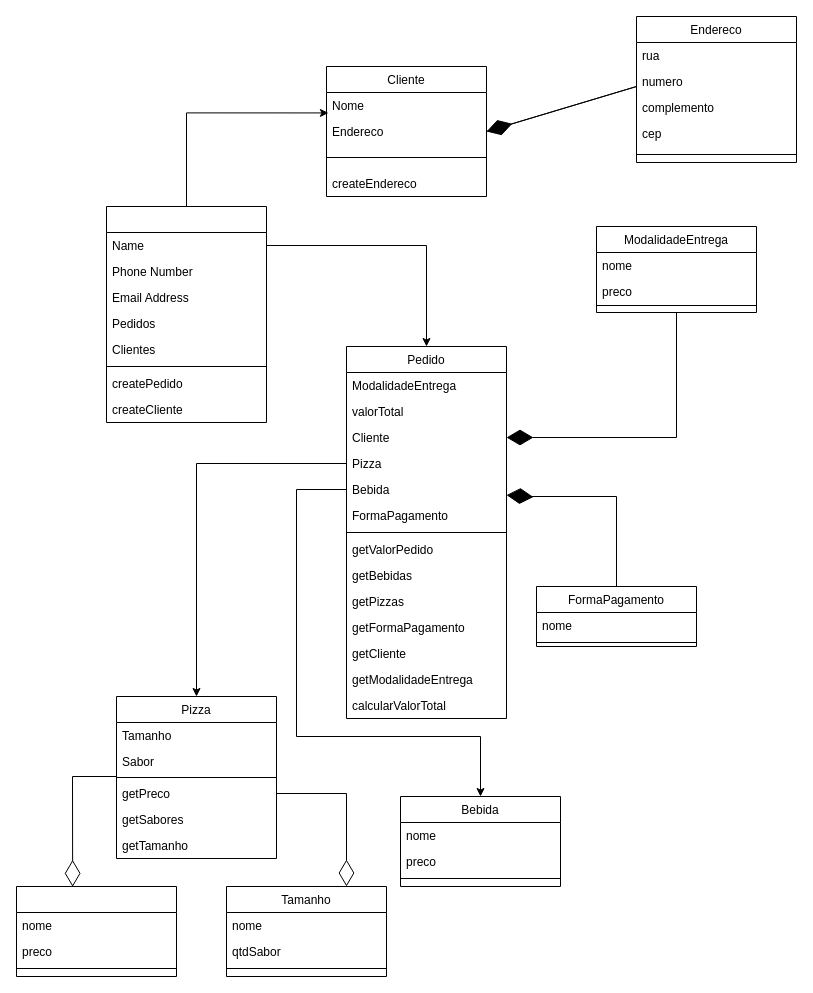
Some shapes in this 813 by 993 pixel diagram are drawn without their labels. The box of each missing label's shape, as (x1, y1, x2, y2) in pixels:
Pizzaria: (106, 206, 266, 422)
Sabores: (16, 886, 176, 976)
